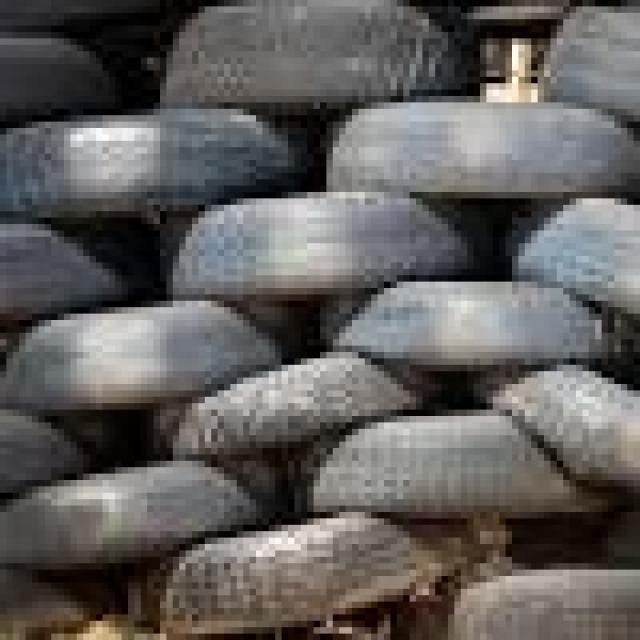Rubber -Non-Biodegradable but Recyclable-: (0, 1, 637, 640)
